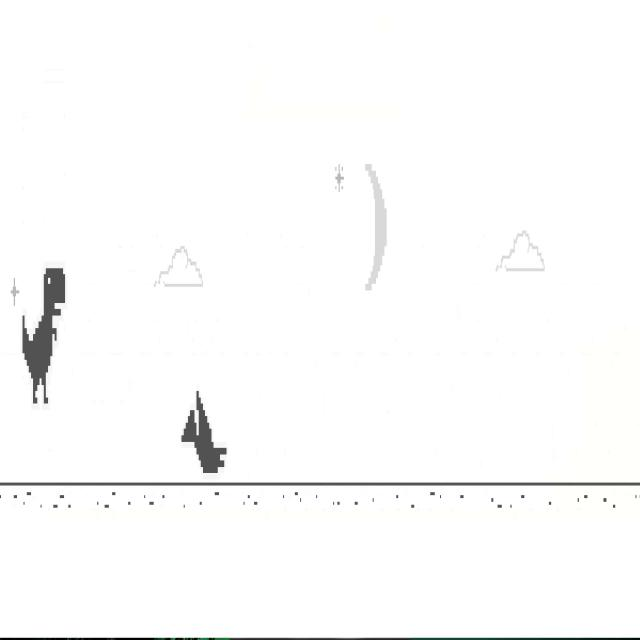dino: (21, 267, 66, 406)
ptero: (181, 390, 227, 475)
